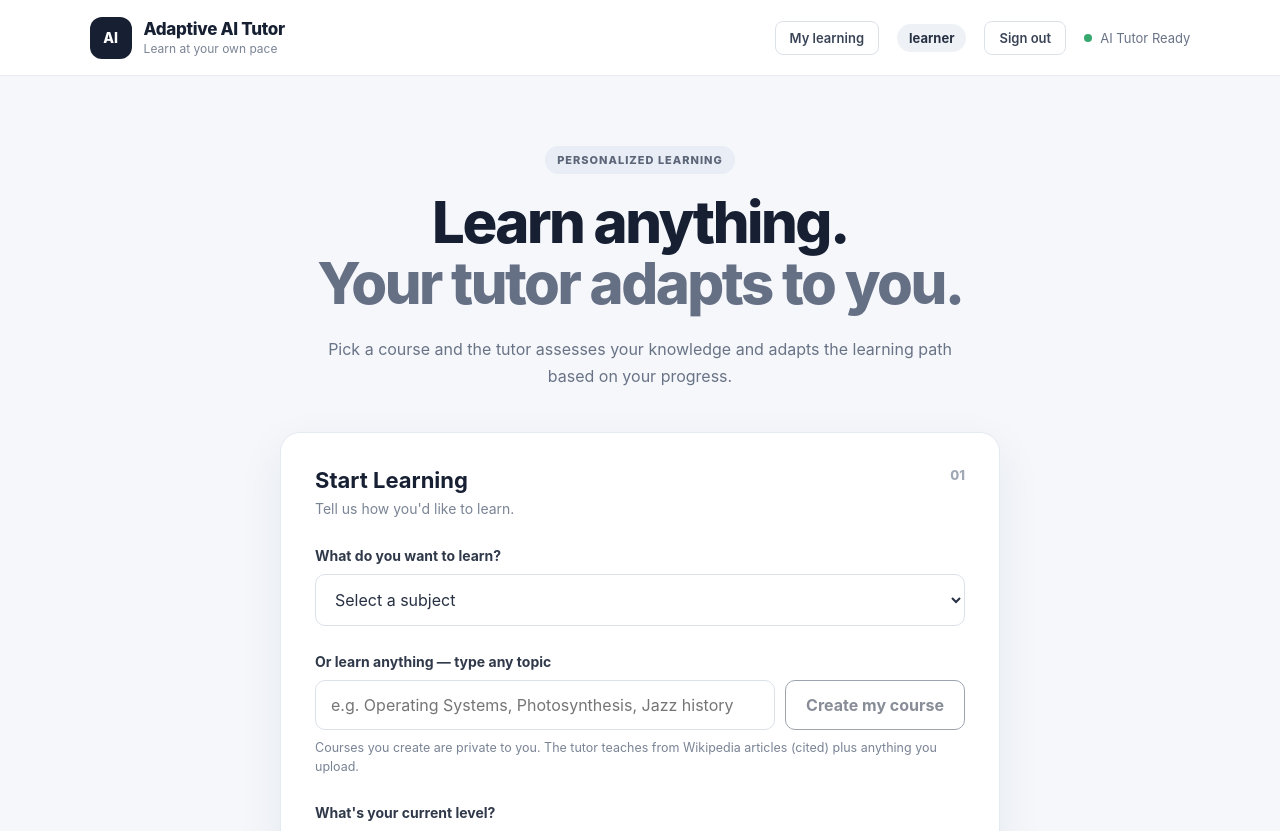
Test: my learning › does not offer delete for shared courses
The width and height of the screenshot is (1280, 831).
Click the button "My learning" at (827, 38), box [775,20,879,54]
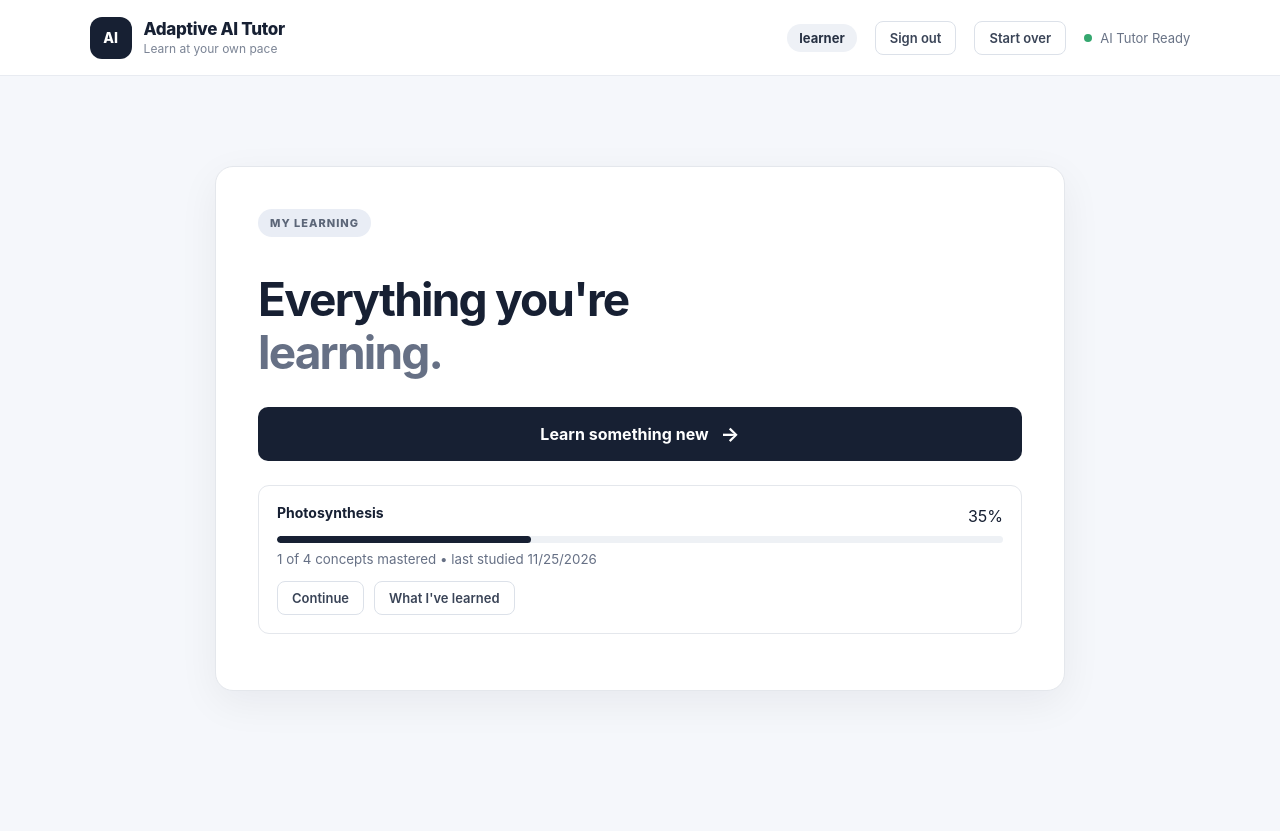
expect the button "Continue" is shown: met, box [277,581,364,615]
